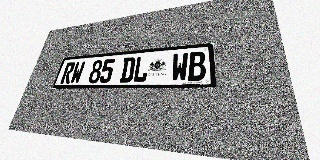5: (99, 59, 115, 83)
8: (87, 60, 104, 83)
B: (188, 51, 206, 81)
D: (119, 57, 136, 83)
L: (132, 56, 149, 82)
R: (60, 62, 76, 84)
W: (171, 52, 188, 81), (69, 61, 86, 84)
